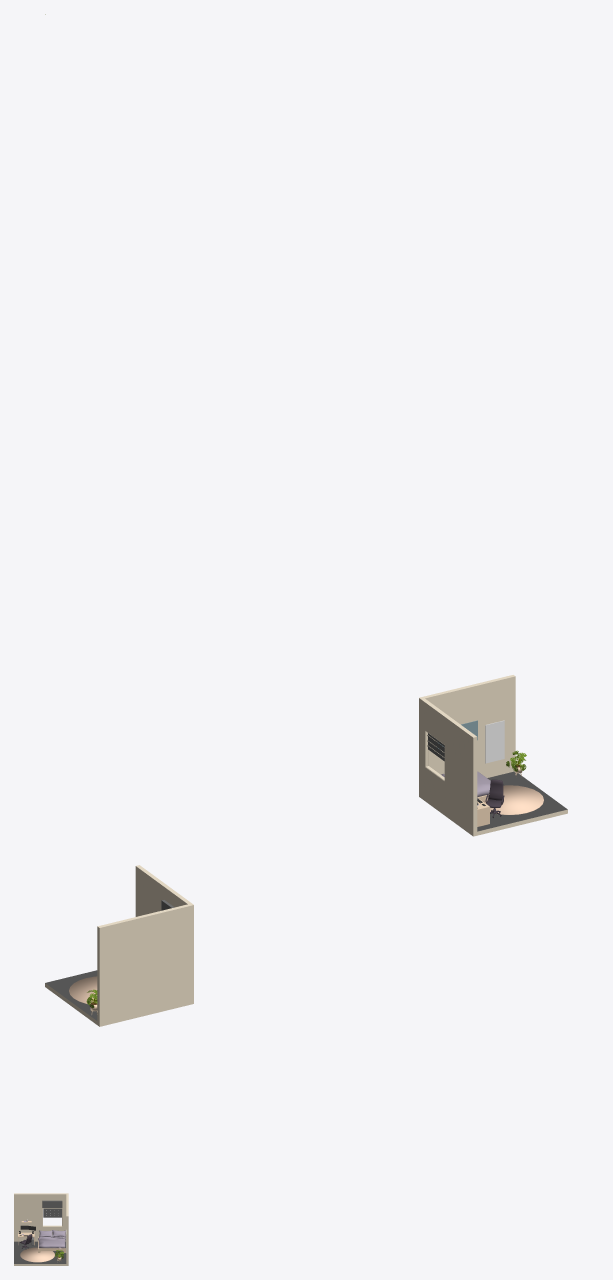
Rendered from myRoom.glb.
3 renders of one model, top to bottom at view 1: azimuth 30°, elevation 25°; view 2: azimuth 210°, elevation 25°; view 3: azimuth 270°, elevation 25°, orthographic. The views are drawn at different scales.
Visible parts, largest first — view 1: theRoom, Cylinder; view 2: theRoom, Cylinder; view 3: theRoom, Cylinder, bedsheet.
Boxes of the visible parts, x1,y1,x2,y2 form: theRoom: (419, 675, 567, 836); Cylinder: (483, 785, 543, 814); theRoom: (45, 865, 193, 1026); Cylinder: (69, 976, 97, 1004); theRoom: (14, 1193, 68, 1265); Cylinder: (20, 1247, 54, 1262); bedsheet: (38, 1236, 65, 1248).
Bounding box in the file's own units: 6.44 × 13.96 × 41.58.
